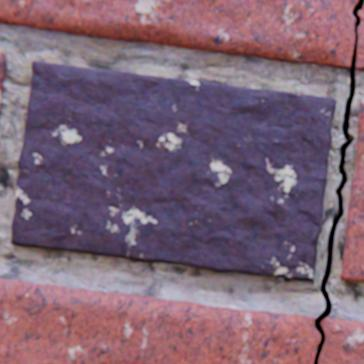brick: (13, 62, 336, 280), (341, 96, 363, 281), (0, 54, 8, 129)
broken_brick: (0, 279, 320, 363), (0, 0, 357, 70), (318, 318, 363, 363), (356, 6, 363, 72)
crack: (314, 0, 363, 363)
